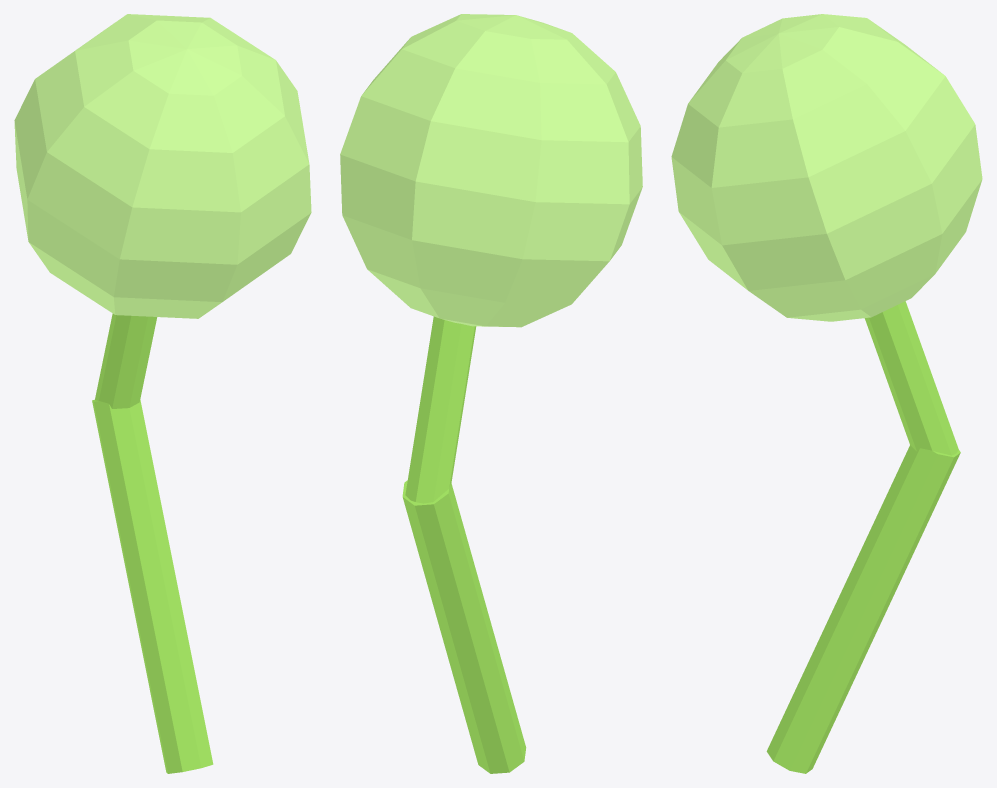
The model's file is Windeelion.glb.
3 views of the same model, side by side, from view 1: azimuth 30°, elevation 25°; view 2: azimuth 150°, elevation 25°; view 3: azimuth 270°, elevation 25° (orthographic). The views are drawn at different scales.
Parts seen in each view (by area): view 1: Sphere, Cylinder, Cylinder.001; view 2: Sphere, Cylinder, Cylinder.001; view 3: Sphere, Cylinder, Cylinder.001.
Boxes of the visible parts, left/top/right/bottom form: Sphere: left=14, top=14, right=311, bottom=318; Cylinder: left=92, top=400, right=213, bottom=773; Cylinder.001: left=95, top=313, right=157, bottom=408; Sphere: left=340, top=14, right=642, bottom=327; Cylinder: left=402, top=480, right=526, bottom=773; Cylinder.001: left=405, top=316, right=476, bottom=503; Sphere: left=671, top=14, right=982, bottom=321; Cylinder: left=766, top=445, right=960, bottom=773; Cylinder.001: left=864, top=301, right=958, bottom=455.
Size of the model in its own units: 1.82 by 4.76 by 1.82.
3 materials, 3 textured.
